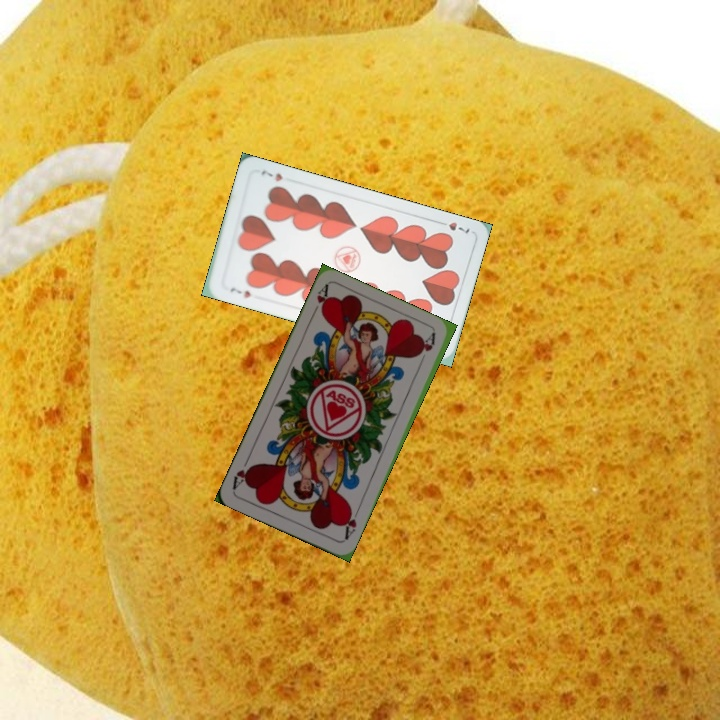H7: (434, 217, 472, 236), (226, 283, 253, 301)
HA: (307, 281, 332, 320), (339, 504, 363, 543)
